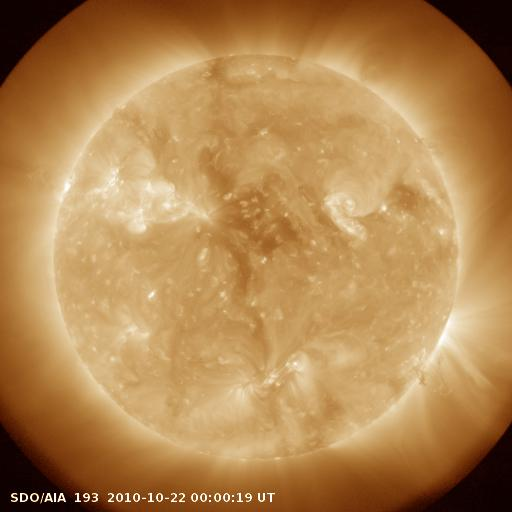coronal_hole: (200, 148, 306, 303)
